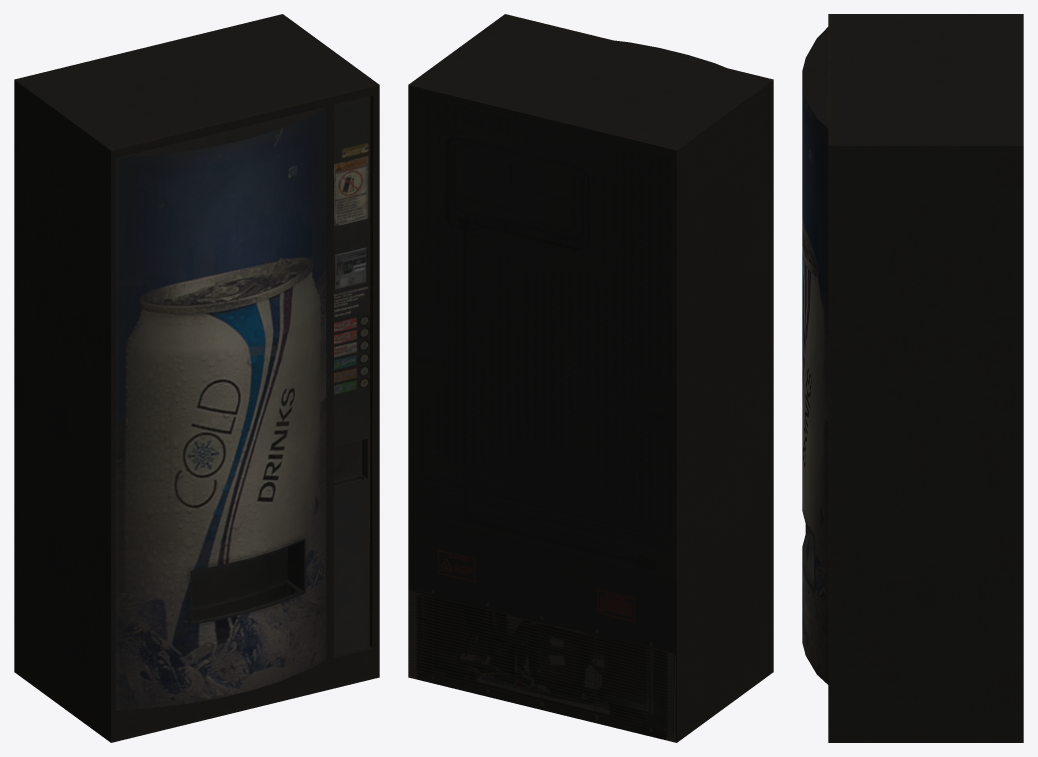
The model's file is vending_machine_1.obj.
3 views of the same model, side by side, from view 1: azimuth 30°, elevation 25°; view 2: azimuth 150°, elevation 25°; view 3: azimuth 270°, elevation 25° (orthographic).
Parts seen in each view (by area): view 1: vending_machine_1; view 2: vending_machine_1; view 3: vending_machine_1.
Boxes of the visible parts, box(x1,y1,x2,y2) form: vending_machine_1: box(14, 14, 379, 742); vending_machine_1: box(408, 14, 773, 742); vending_machine_1: box(802, 14, 1023, 742).
Bounding box in the file's own units: 0.952 × 2.01 × 0.6751.
